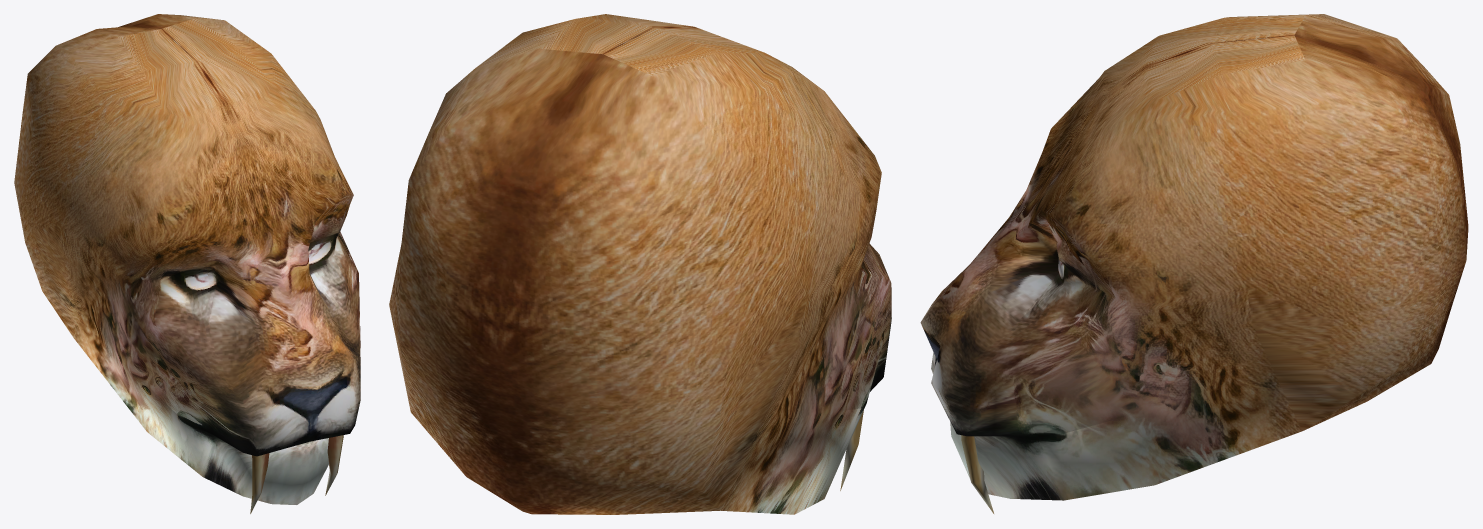
File: b_v_khajiit_m_head_01.glb
The picture shows the model from 3 angles, left to right: view 1: azimuth 30°, elevation 25°; view 2: azimuth 150°, elevation 25°; view 3: azimuth 270°, elevation 25°; orthographic projection. The views are drawn at different scales.
Parts seen in each view (by area): view 1: Tri B_V_Khajiit_M_Head_01.001; view 2: Tri B_V_Khajiit_M_Head_01.001; view 3: Tri B_V_Khajiit_M_Head_01.001.
Part boxes in pixels (x1=…): Tri B_V_Khajiit_M_Head_01.001: x1=14, y1=14, x2=360, y2=513; Tri B_V_Khajiit_M_Head_01.001: x1=389, y1=14, x2=891, y2=514; Tri B_V_Khajiit_M_Head_01.001: x1=920, y1=14, x2=1468, y2=513.
Size of the model in its own units: 0.0971 by 0.1459 by 0.1582.
1 material, 1 textured.
